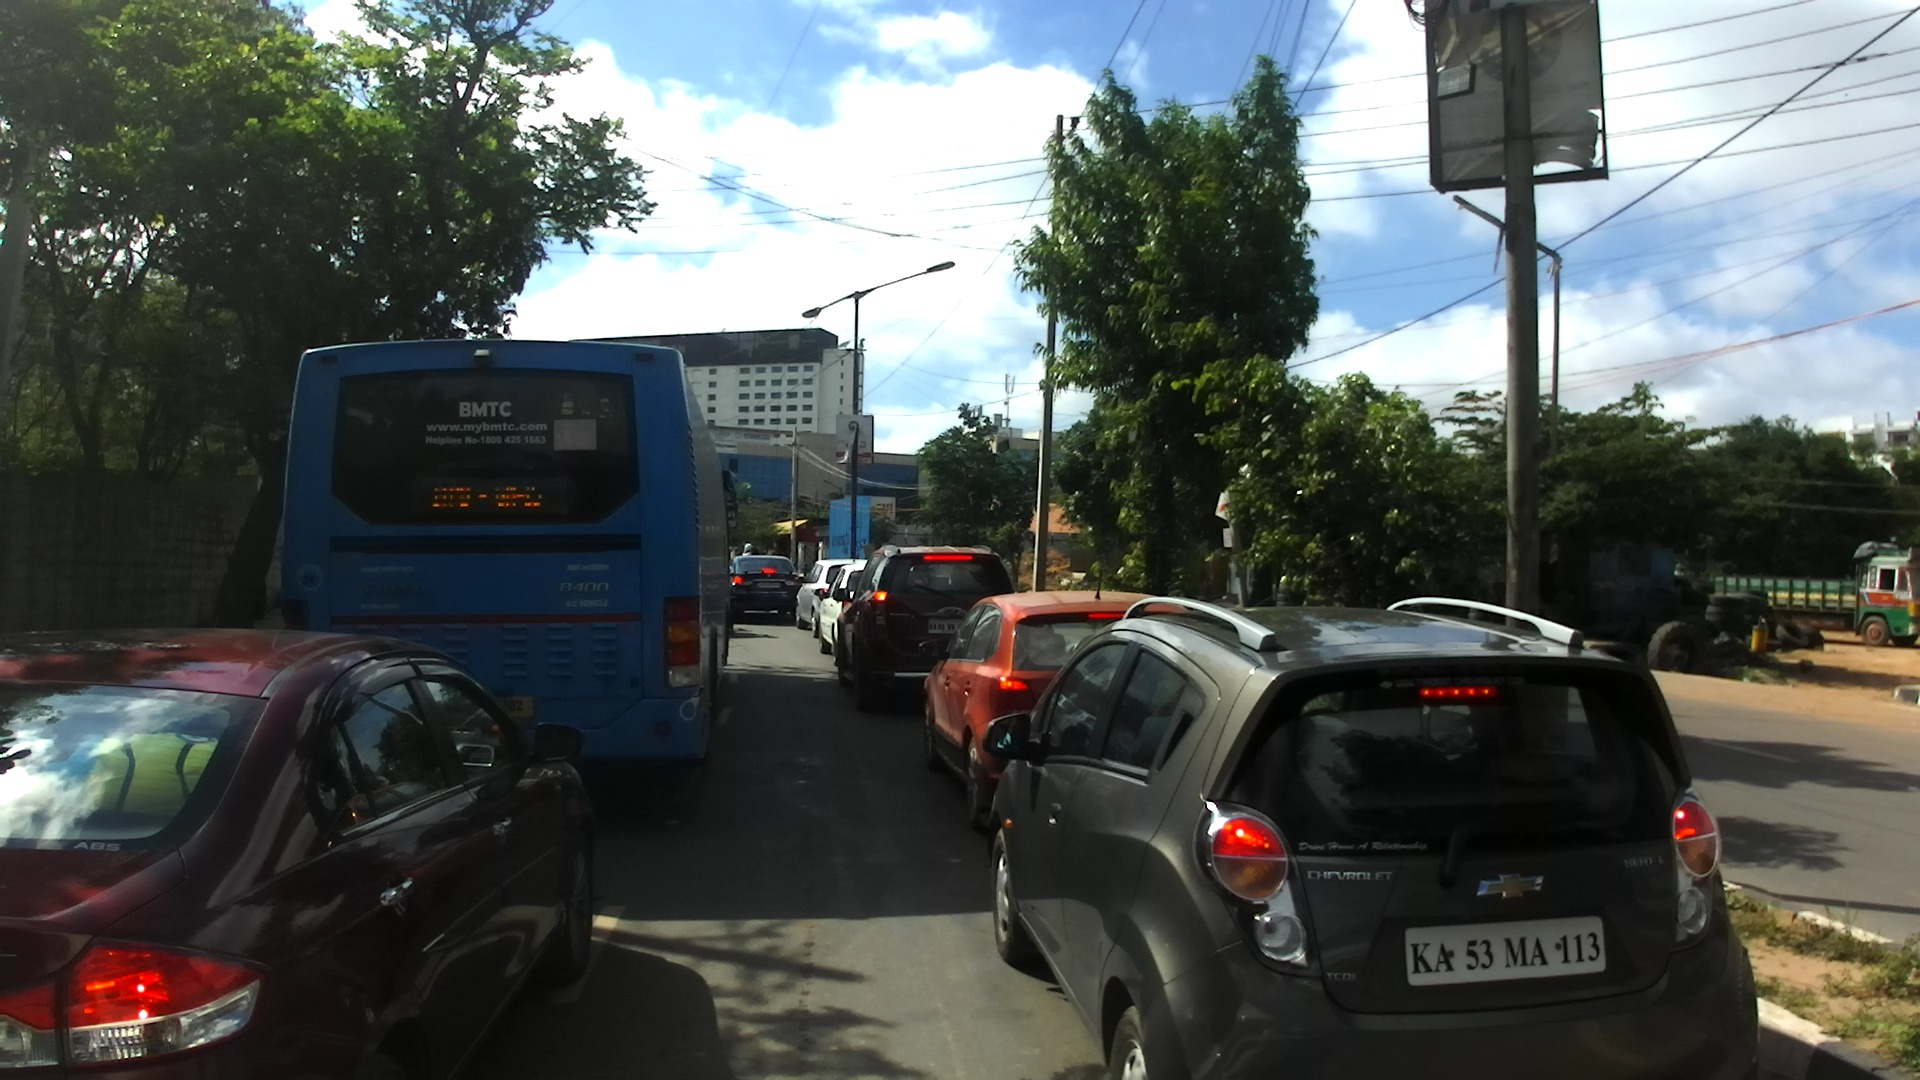bus: (270, 340, 739, 792)
car: (981, 598, 1761, 1080), (1, 623, 593, 1079), (920, 571, 1161, 827), (831, 544, 1015, 711), (794, 558, 867, 631), (816, 563, 870, 655), (727, 555, 801, 621)
rider: (740, 542, 756, 555), (730, 544, 738, 566), (748, 546, 760, 556)
truck: (1707, 537, 1918, 649)
